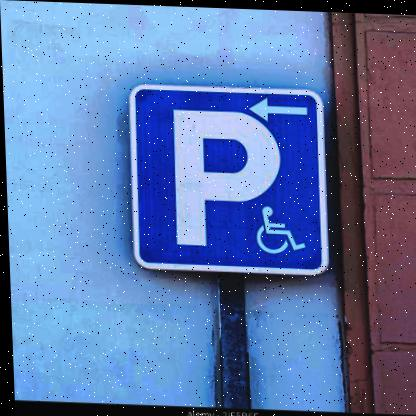Parking: (128, 84, 325, 278)
